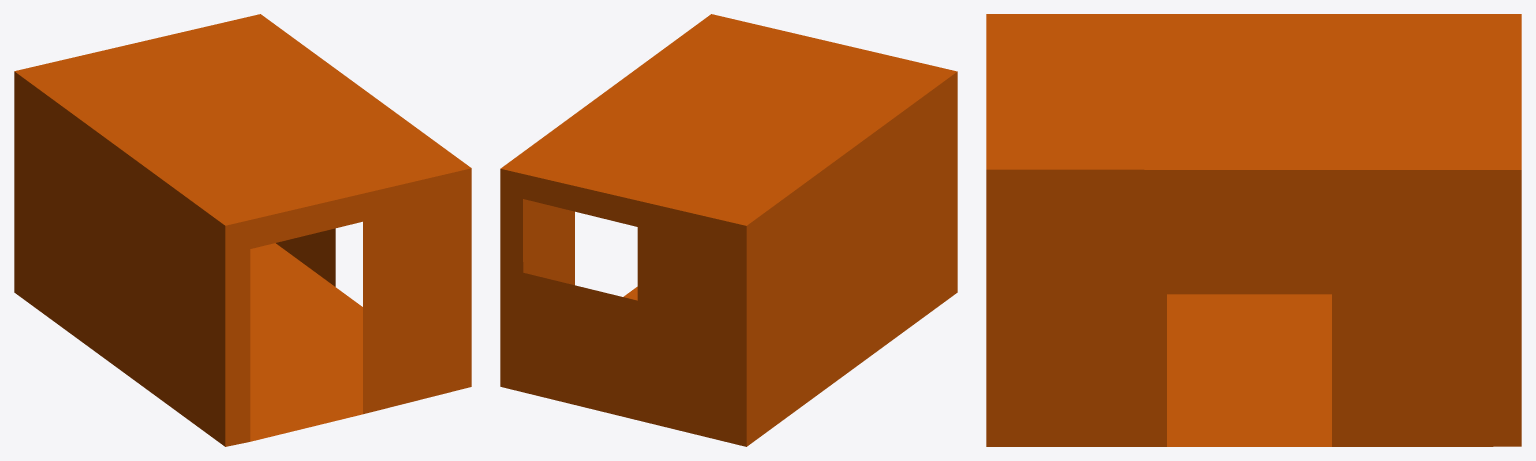
The model's file is Quincho_Room_1a.fbx.
3 renders of one model, left to right at view 1: azimuth 30°, elevation 25°; view 2: azimuth 150°, elevation 25°; view 3: azimuth 270°, elevation 25°, orthographic. The views are drawn at different scales.
Visible parts, largest first — view 1: Cube.753, Cube.754, Cube.251; view 2: Cube.754, Cube.753, Cube.251; view 3: Cube.754, Cube.753.
Boxes of the visible parts, x1,y1,x2,y2 form: Cube.753: (14, 14, 471, 441); Cube.754: (14, 71, 335, 446); Cube.251: (225, 168, 471, 446); Cube.754: (523, 71, 957, 446); Cube.753: (500, 14, 957, 300); Cube.251: (500, 169, 746, 446); Cube.754: (986, 169, 1521, 446); Cube.753: (986, 14, 1521, 446).
Size of the model in its own units: 237 by 204 by 351.
